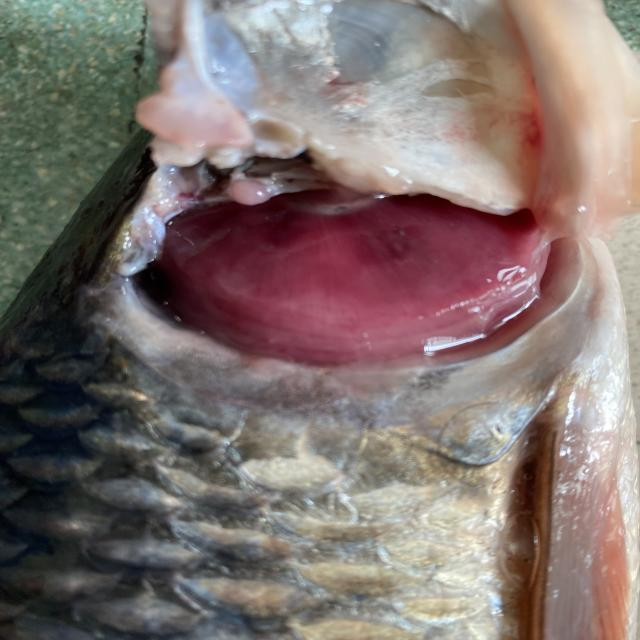Fresh: (122, 152, 561, 382)
